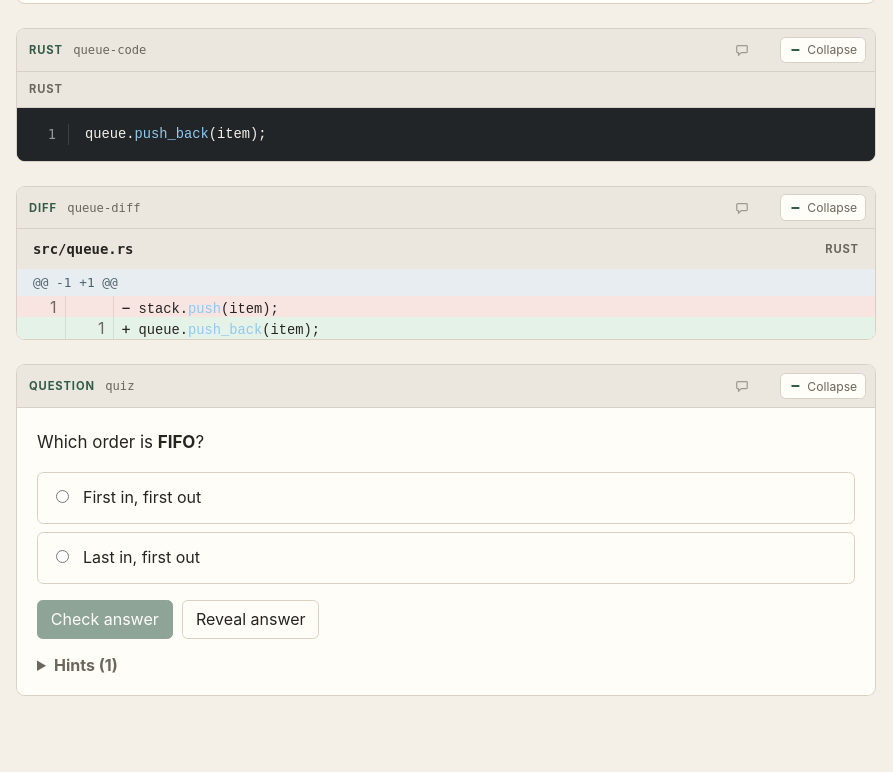
Test: App › does not receive or infer an answer after an incorrect attempt
(page scrolled)
Click the radio button labelled "Last in, first out". click: (62,557)
box: [56, 550, 69, 563]
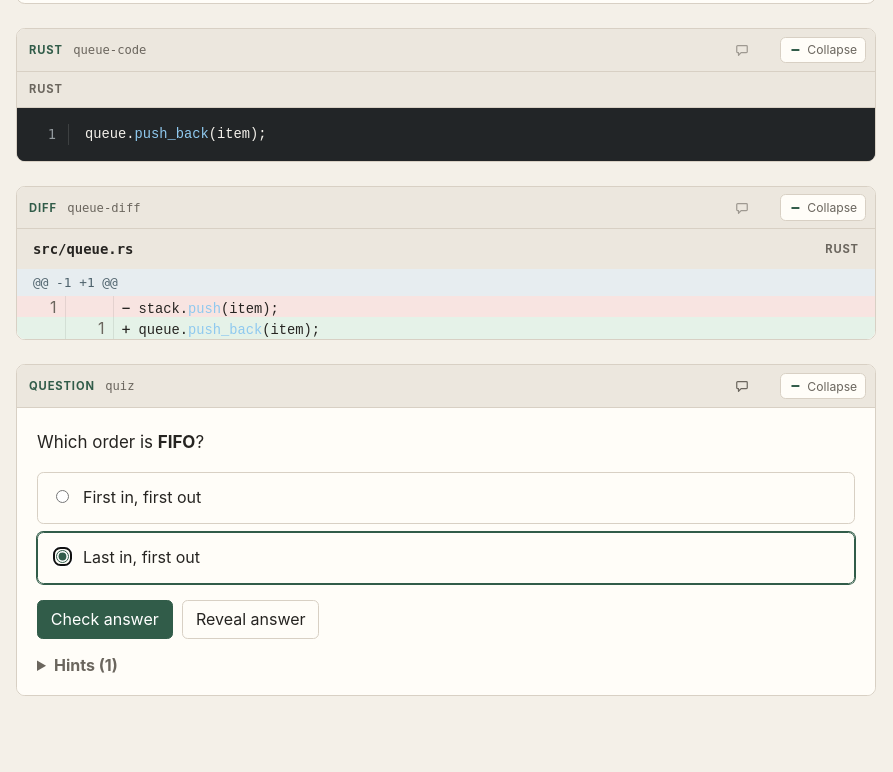
Click the button "Check answer". click: (105,619)
box: [37, 600, 172, 639]
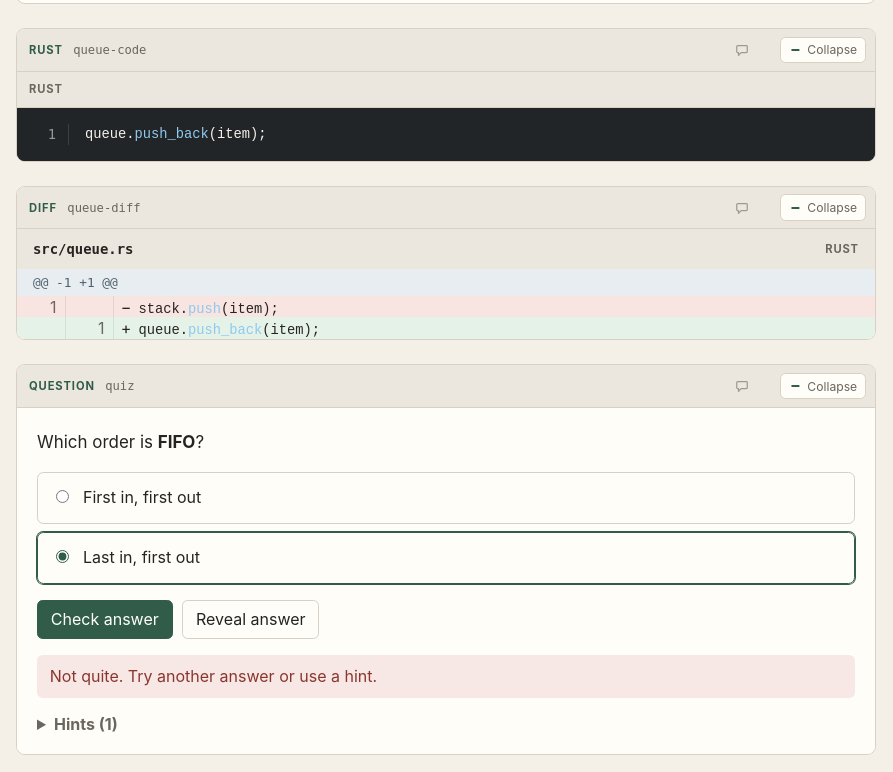
Expected: the button "Check answer" is enabled, [37, 600, 172, 639]
Expected: the text "Not quite. Try another answer or use a hint." is shown, [37, 655, 855, 698]
